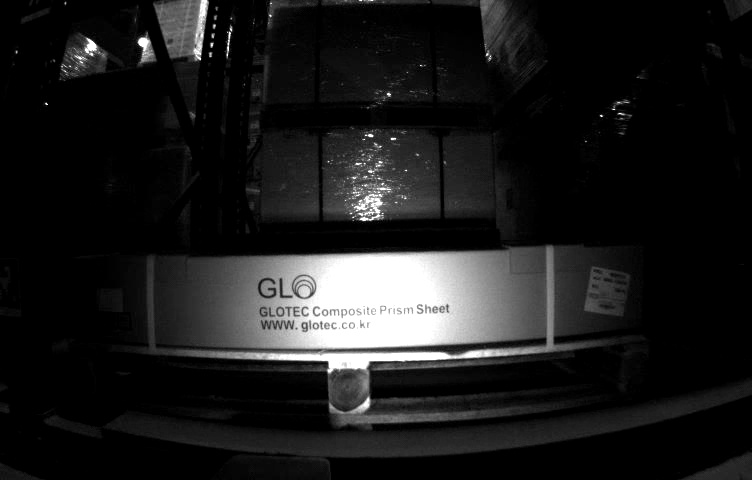True Barcode: (584, 267, 628, 314)
